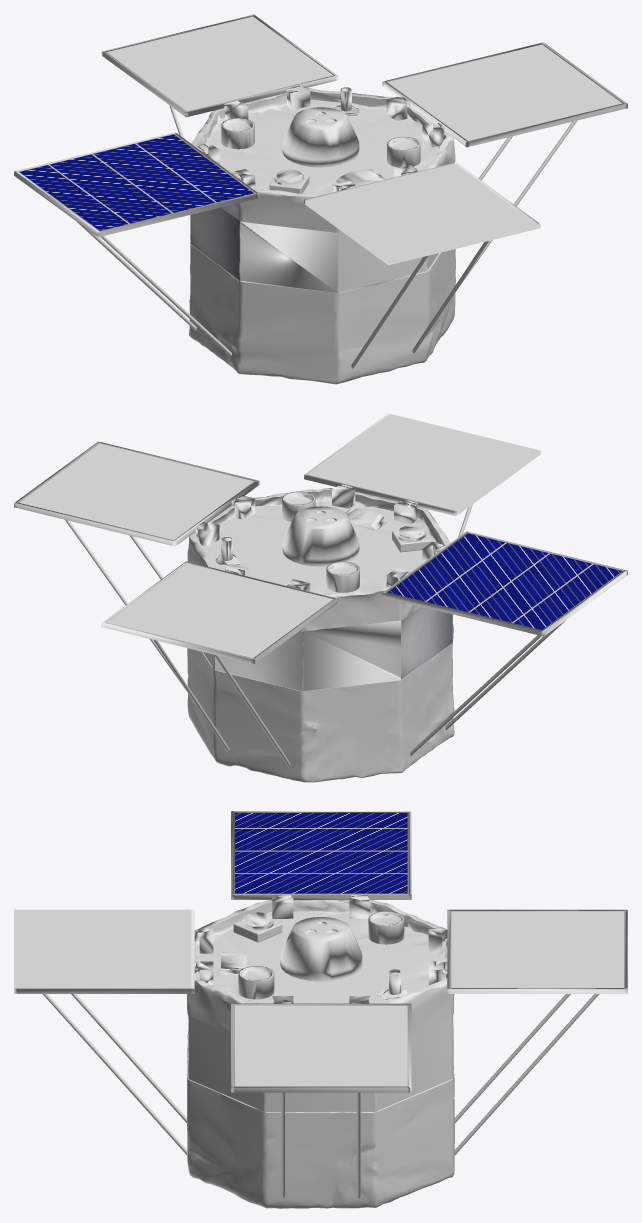
Rendered from AcrimSat_FINAL.glb.
3 views of the same model, one above another, from view 1: azimuth 30°, elevation 25°; view 2: azimuth 150°, elevation 25°; view 3: azimuth 270°, elevation 25° (orthographic). The views are drawn at different scales.
Parts seen in each view (by area): view 1: Acrimsat_vFINAL [Layer2], Acrimsat_vFINAL [Layer1], Acrimsat_vFINAL [Layer3], Acrimsat_vFINAL [Layer8], Acrimsat_vFINAL [Layer4], Acrimsat_vFINAL [Layer7], Acrimsat_vFINAL [Layer5], Acrimsat_vFINAL [Layer6]; view 2: Acrimsat_vFINAL [Layer2], Acrimsat_vFINAL [Layer1], Acrimsat_vFINAL [Layer3], Acrimsat_vFINAL [Layer8], Acrimsat_vFINAL [Layer4], Acrimsat_vFINAL [Layer7], Acrimsat_vFINAL [Layer5], Acrimsat_vFINAL [Layer6]; view 3: Acrimsat_vFINAL [Layer2], Acrimsat_vFINAL [Layer1], Acrimsat_vFINAL [Layer8], Acrimsat_vFINAL [Layer3], Acrimsat_vFINAL [Layer4], Acrimsat_vFINAL [Layer7], Acrimsat_vFINAL [Layer5], Acrimsat_vFINAL [Layer6].
Part boxes in pixels (x1,y1,x2,y2): Acrimsat_vFINAL [Layer2]: (19,16,622,259); Acrimsat_vFINAL [Layer1]: (189,88,455,384); Acrimsat_vFINAL [Layer3]: (190,207,440,292); Acrimsat_vFINAL [Layer8]: (14,14,627,265); Acrimsat_vFINAL [Layer4]: (196,85,446,192); Acrimsat_vFINAL [Layer7]: (76,105,577,368); Acrimsat_vFINAL [Layer5]: (221,118,420,167); Acrimsat_vFINAL [Layer6]: (269,87,359,193); Acrimsat_vFINAL [Layer2]: (19,415,622,657); Acrimsat_vFINAL [Layer1]: (187,488,454,782); Acrimsat_vFINAL [Layer3]: (202,606,453,691); Acrimsat_vFINAL [Layer8]: (14,413,627,664); Acrimsat_vFINAL [Layer4]: (195,484,445,591); Acrimsat_vFINAL [Layer7]: (65,504,565,767); Acrimsat_vFINAL [Layer5]: (282,491,359,592); Acrimsat_vFINAL [Layer6]: (215,525,431,566); Acrimsat_vFINAL [Layer2]: (18,813,623,1086); Acrimsat_vFINAL [Layer1]: (187,900,454,1208); Acrimsat_vFINAL [Layer8]: (14,811,627,1092); Acrimsat_vFINAL [Layer3]: (187,1015,453,1112); Acrimsat_vFINAL [Layer4]: (194,895,447,1003); Acrimsat_vFINAL [Layer7]: (43,994,599,1198); Acrimsat_vFINAL [Layer5]: (238,911,404,999); Acrimsat_vFINAL [Layer6]: (233,912,407,1000).
Size of the model in its own units: 11051 by 4223 by 10352.
26 materials, 2 textured.
